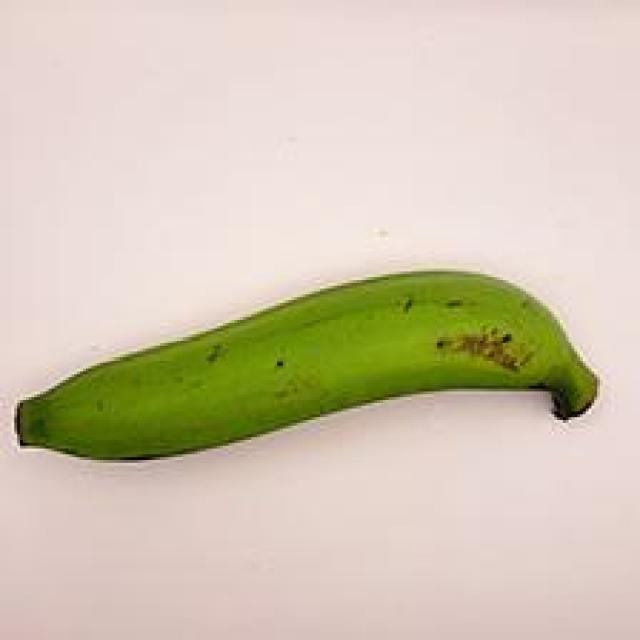Raw: (1, 229, 628, 511)
